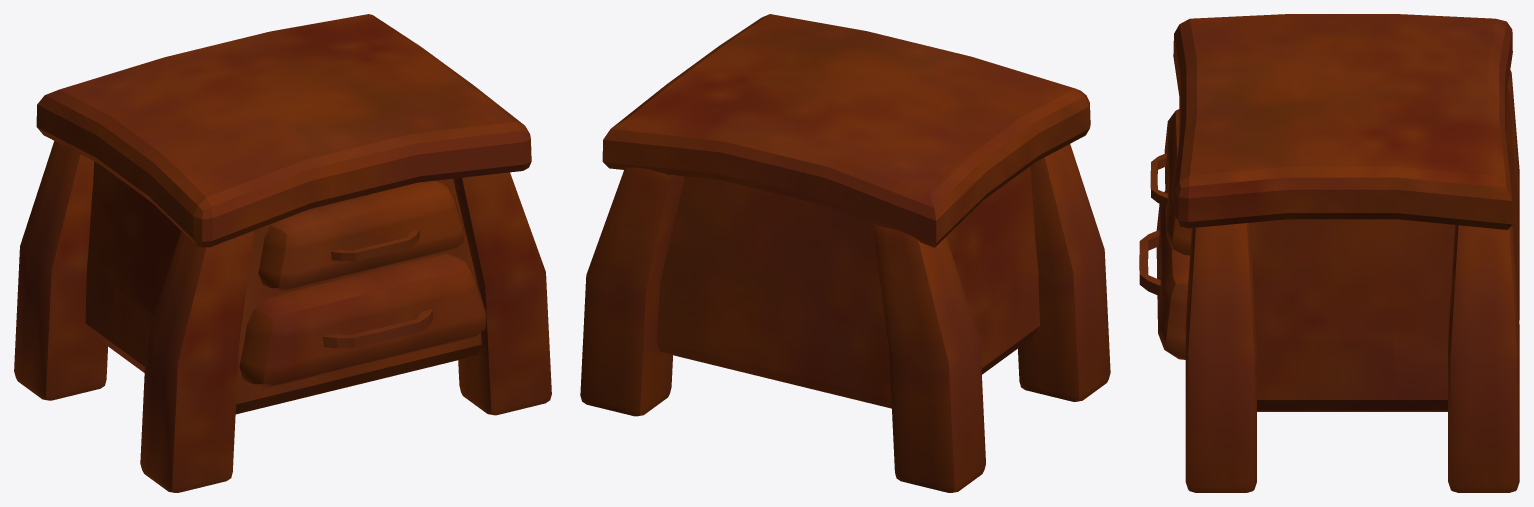
Rendered from smallcabinet.FBX.
3 views of the same model, side by side, from view 1: azimuth 30°, elevation 25°; view 2: azimuth 150°, elevation 25°; view 3: azimuth 270°, elevation 25° (orthographic). The views are drawn at different scales.
Visible parts, largest first — view 1: Box004; view 2: Box004; view 3: Box004.
Boxes of the visible parts, left/top/right/bottom form: Box004: left=14, top=14, right=551, bottom=492; Box004: left=580, top=14, right=1110, bottom=492; Box004: left=1139, top=14, right=1519, bottom=492.
Bounding box in the file's own units: 14.83 × 11.35 × 12.23.
1 material, 1 textured.
